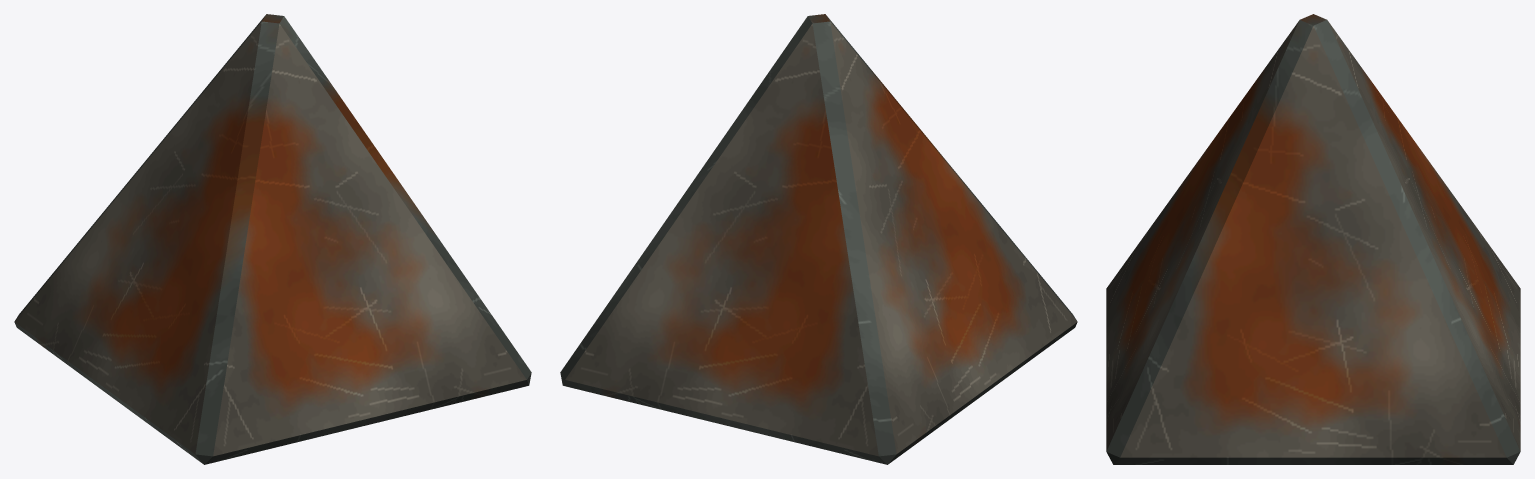
3 renders of one model, left to right at view 1: azimuth 30°, elevation 25°; view 2: azimuth 150°, elevation 25°; view 3: azimuth 270°, elevation 25°, orthographic. The views are drawn at different scales.
Parts seen in each view (by area): view 1: R4B_Pyramid_LOD1; view 2: R4B_Pyramid_LOD1; view 3: R4B_Pyramid_LOD1.
Part boxes in pixels (left/top/right/bottom): R4B_Pyramid_LOD1: left=14, top=14, right=531, bottom=464; R4B_Pyramid_LOD1: left=560, top=14, right=1077, bottom=464; R4B_Pyramid_LOD1: left=1106, top=14, right=1520, bottom=464.
Bounding box in the file's own units: 0.5062 × 0.4862 × 0.5062.
2 materials, 2 textured.
